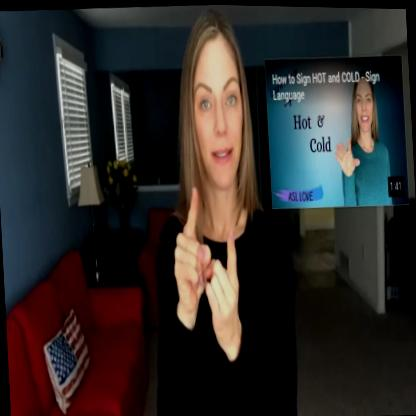NiceToMeetYou: (134, 2, 303, 416)
